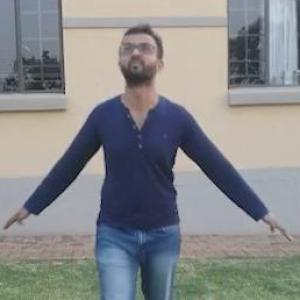land: (0, 24, 284, 299)
